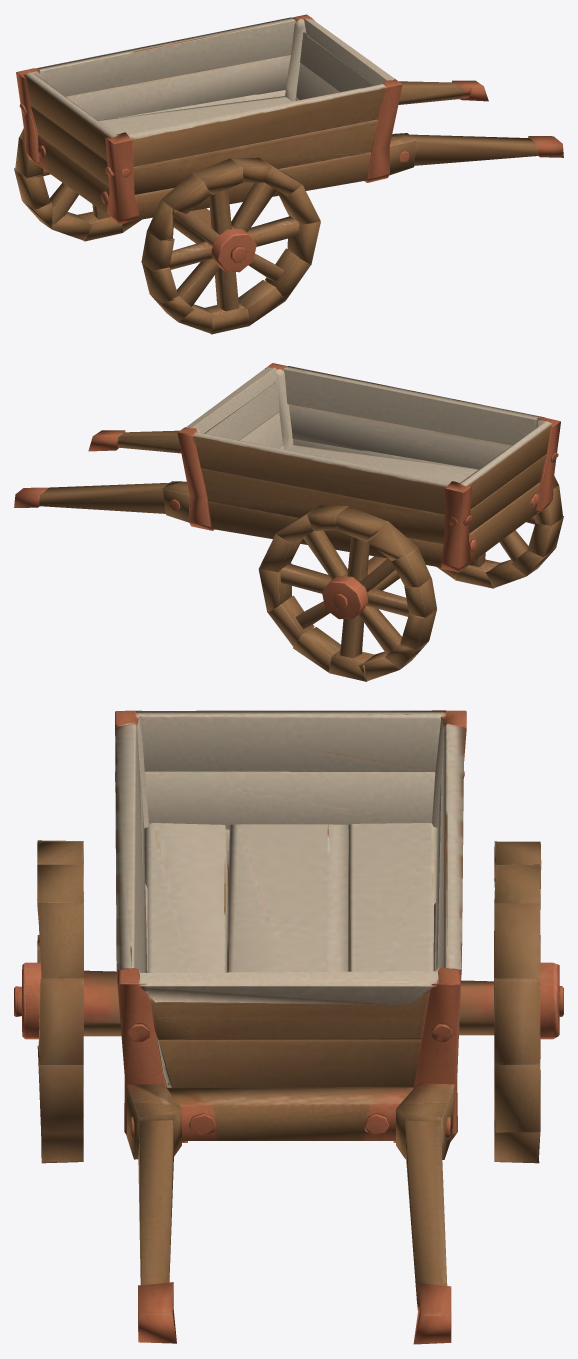
Rendered from AW-VAR-PROP-004-v0.2.glb.
3 views of the same model, one above another, from view 1: azimuth 30°, elevation 25°; view 2: azimuth 150°, elevation 25°; view 3: azimuth 270°, elevation 25° (orthographic). The views are drawn at different scales.
Parts seen in each view (by area): view 1: AW-VAR-PROP-004_meter_ground_pivot; view 2: AW-VAR-PROP-004_meter_ground_pivot; view 3: AW-VAR-PROP-004_meter_ground_pivot.
Part boxes in pixels (<box>): AW-VAR-PROP-004_meter_ground_pivot: <box>14,14,563,334</box>; AW-VAR-PROP-004_meter_ground_pivot: <box>14,363,563,681</box>; AW-VAR-PROP-004_meter_ground_pivot: <box>14,710,563,1344</box>.
Size of the model in its own units: 2.91 by 1.2 by 1.69.
1 material, 1 textured.
